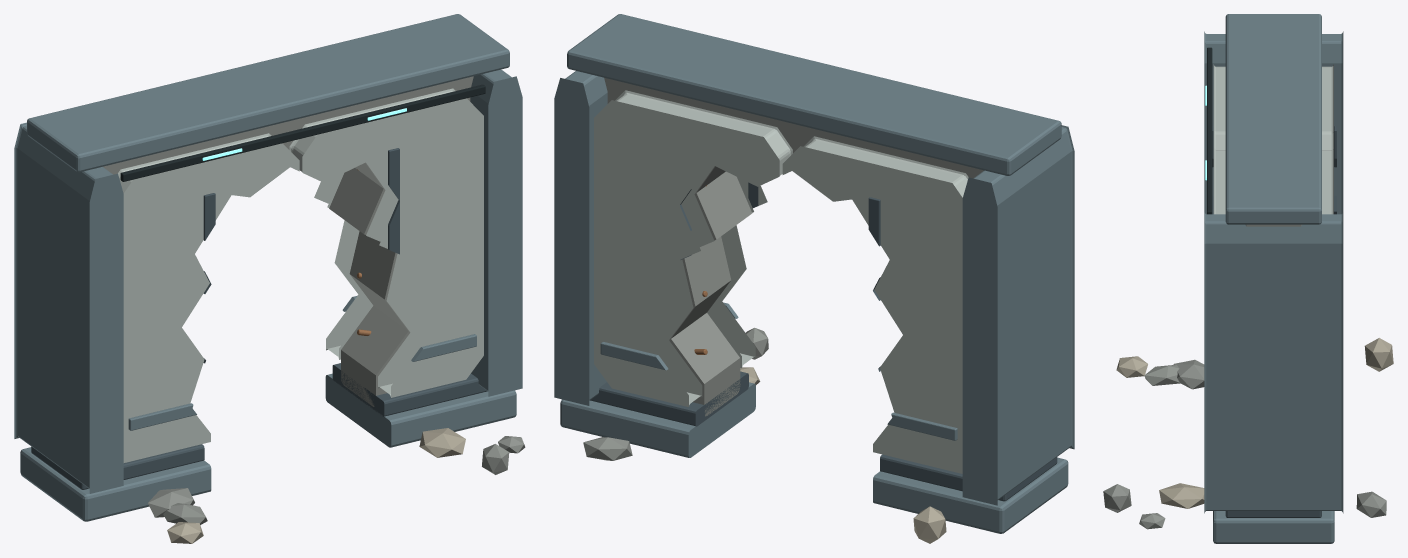
File: wall_standard_d2.glb
The picture shows the model from 3 angles, left to right: view 1: azimuth 30°, elevation 25°; view 2: azimuth 150°, elevation 25°; view 3: azimuth 270°, elevation 25°; orthographic projection. The views are drawn at different scales.
Parts seen in each view (by area): view 1: End structural rib.004, Replaceable armor panel.005, Cap rail.002, Replaceable armor panel.004, End structural rib.005, Geopolymer core.002, Load-spreading footing.002, Footing top.002, Upper recessed service channel.002, Rear armor panel.005, Fractured core debris, Panel recessed spine.010 (+6 smaller); view 2: End structural rib.004, Rear armor panel.005, Cap rail.002, Rear armor panel.004, End structural rib.005, Geopolymer core.002, Load-spreading footing.002, Footing top.002, Replaceable armor panel.005, Fractured core debris.008, Panel lower reinforcement.009, Fractured core debris.003 (+1 smaller); view 3: End structural rib.005, Cap rail.002, Load-spreading footing.002, End structural rib.004, Replaceable armor panel.004, Rear armor panel.004, Upper recessed service channel.002, Fractured core debris, Replaceable armor panel.005, Rear armor panel.005, Fractured core debris.003, Fractured core debris.007 (+5 smaller).
Boxes of the visible parts, x1,y1,x2,y2 form: End structural rib.004: [14, 122, 123, 493]; Replaceable armor panel.005: [289, 88, 483, 397]; Cap rail.002: [27, 14, 509, 172]; Replaceable armor panel.004: [118, 133, 299, 462]; End structural rib.005: [470, 69, 522, 396]; Geopolymer core.002: [103, 76, 473, 406]; Load-spreading footing.002: [20, 373, 516, 521]; Footing top.002: [31, 363, 487, 489]; Upper recessed service channel.002: [120, 84, 485, 181]; Rear armor panel.005: [314, 173, 373, 359]; Fractured core debris: [419, 428, 465, 457]; Panel recessed spine.010: [388, 148, 399, 254]; End structural rib.004: [962, 125, 1074, 505]; Rear armor panel.005: [594, 90, 792, 406]; Cap rail.002: [567, 14, 1061, 175]; Rear armor panel.004: [782, 136, 968, 473]; End structural rib.005: [554, 71, 607, 405]; Geopolymer core.002: [604, 77, 983, 416]; Load-spreading footing.002: [560, 382, 1068, 533]; Footing top.002: [590, 371, 1057, 501]; Replaceable armor panel.005: [707, 177, 767, 368]; Fractured core debris.008: [583, 437, 632, 460]; Panel lower reinforcement.009: [887, 412, 957, 440]; Fractured core debris.003: [913, 506, 946, 543]; End structural rib.005: [1204, 212, 1343, 513]; Cap rail.002: [1225, 14, 1321, 224]; Load-spreading footing.002: [1213, 511, 1334, 543]; End structural rib.004: [1204, 31, 1343, 214]; Replaceable armor panel.004: [1213, 64, 1225, 149]; Rear armor panel.004: [1322, 64, 1333, 149]; Upper recessed service channel.002: [1207, 47, 1212, 214]; Fractured core debris: [1159, 483, 1204, 508]; Replaceable armor panel.005: [1213, 148, 1225, 214]; Rear armor panel.005: [1322, 147, 1333, 214]; Fractured core debris.003: [1364, 338, 1393, 371]; Fractured core debris.007: [1173, 359, 1204, 389].
Size of the model in its own units: 4 by 3.21 by 2.5.
